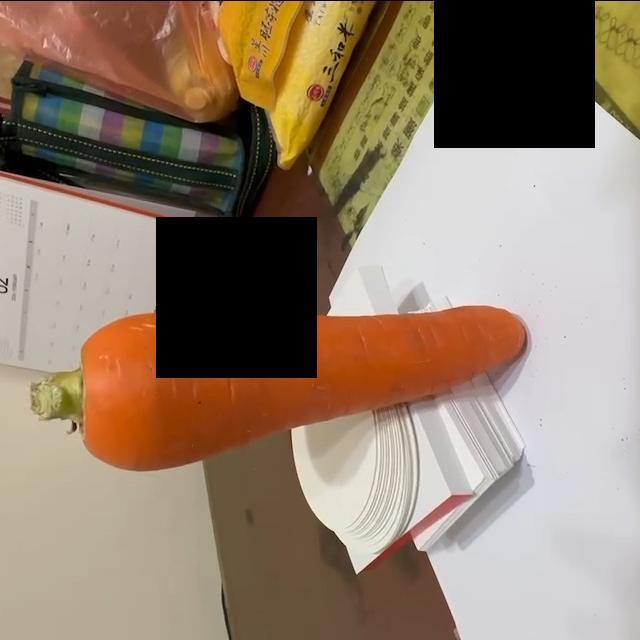carrot: (31, 303, 530, 473)
